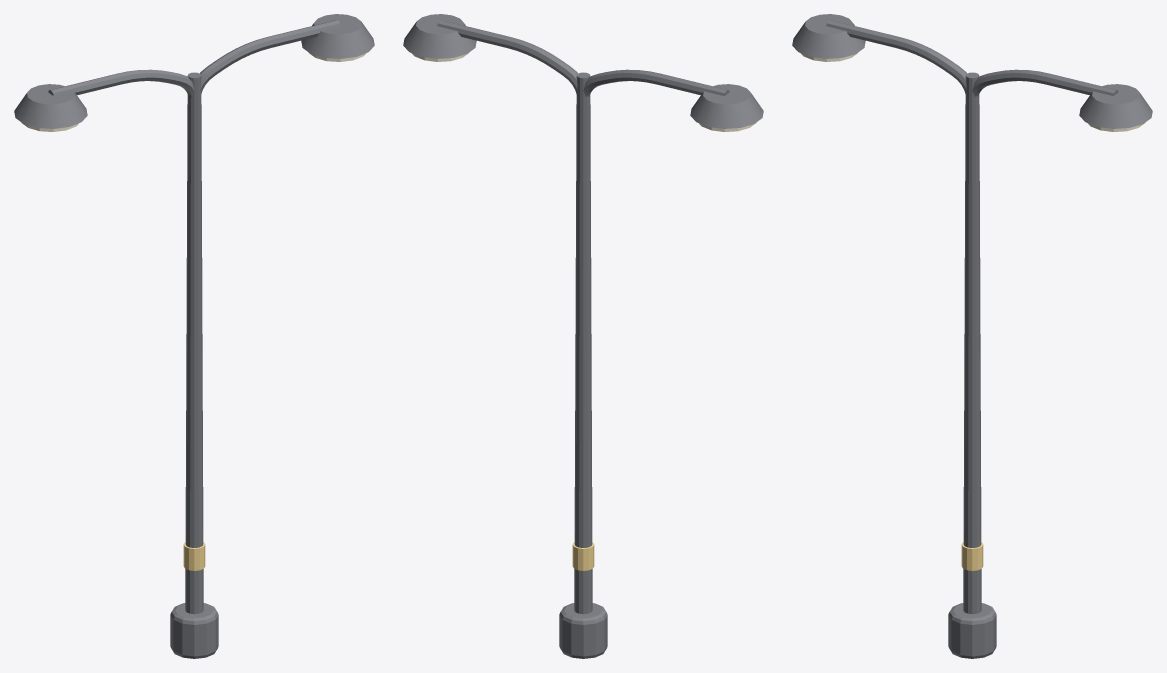
The model's file is dt_street_lamp.fbx.
3 renders of one model, left to right at view 1: azimuth 30°, elevation 25°; view 2: azimuth 150°, elevation 25°; view 3: azimuth 330°, elevation 25°, orthographic.
Visible parts, largest first — view 1: steel_1, gold_1; view 2: steel_1, gold_1; view 3: steel_1, gold_1.
Boxes of the visible parts, box(x1,y1,x2,y2) form: steel_1: box(14, 14, 374, 658); gold_1: box(183, 542, 205, 570); steel_1: box(403, 14, 763, 658); gold_1: box(572, 542, 594, 570); steel_1: box(792, 14, 1152, 658); gold_1: box(961, 542, 983, 570).
Bounding box in the file's own units: 0.4997 × 0.8125 × 0.092.
